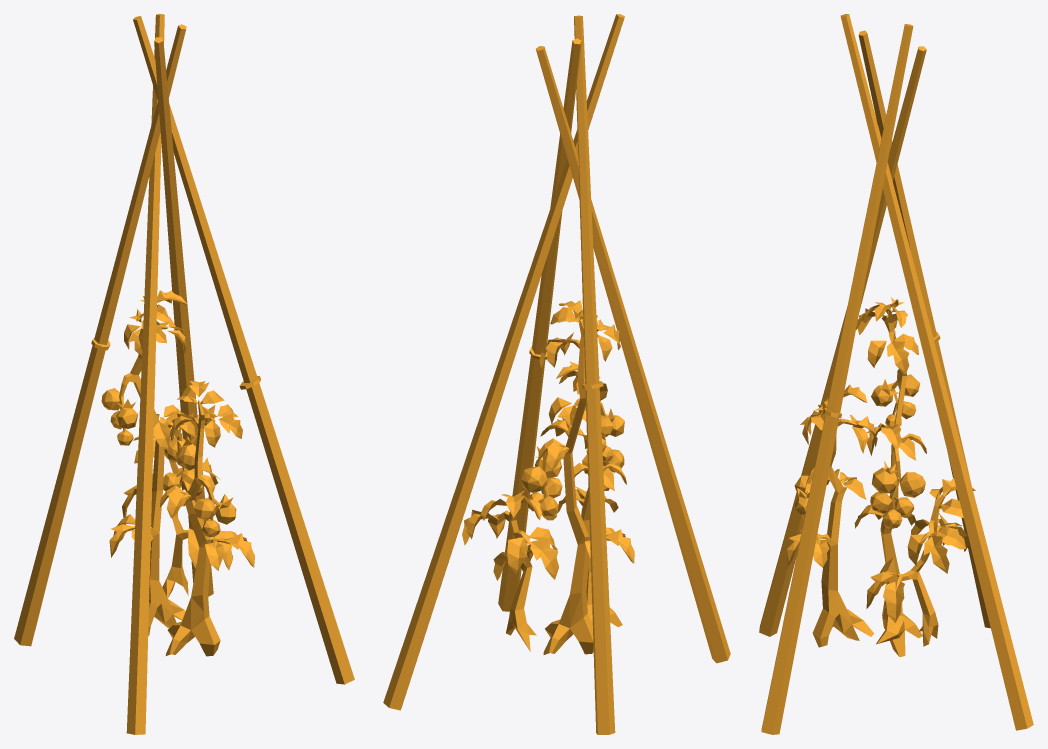
The model's file is SM_Tomato_Mature_Group_A.fbx.
3 renders of one model, left to right at view 1: azimuth 30°, elevation 25°; view 2: azimuth 150°, elevation 25°; view 3: azimuth 270°, elevation 25°, orthographic.
Parts seen in each view (by area): view 1: tomato-mature-group-a; view 2: tomato-mature-group-a; view 3: tomato-mature-group-a.
Boxes of the visible parts, box(x1,y1,x2,y2) form: tomato-mature-group-a: box(14, 14, 354, 734); tomato-mature-group-a: box(383, 14, 730, 734); tomato-mature-group-a: box(759, 14, 1033, 734).
Size of the model in its own units: 1.05 by 2.89 by 1.11.
